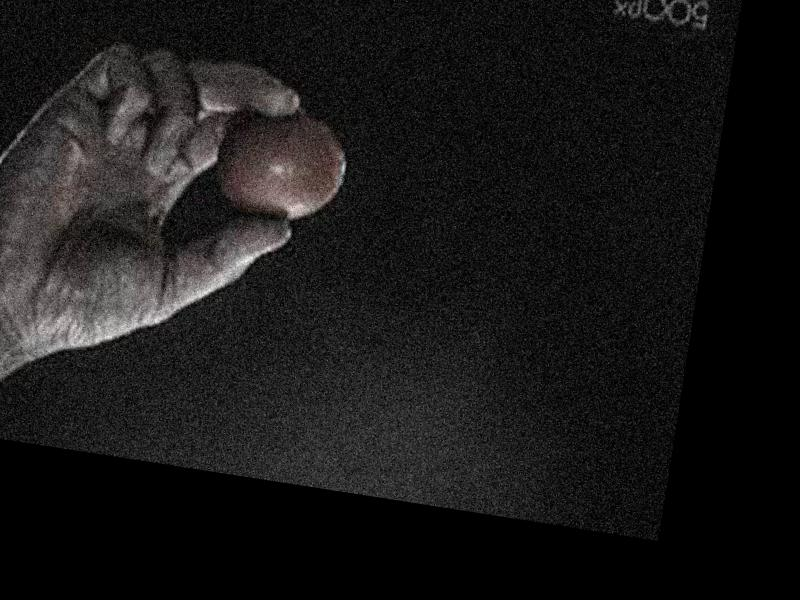Eggs: (205, 104, 351, 231)
